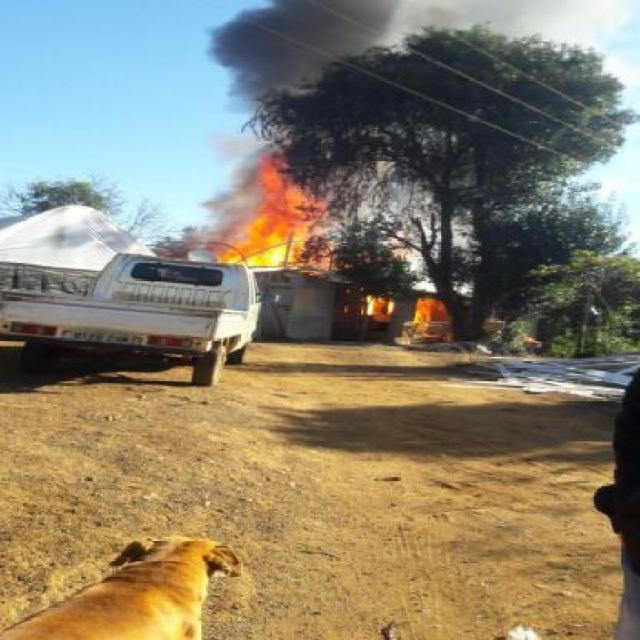Fire: (230, 148, 332, 232), (218, 242, 299, 268), (354, 289, 394, 320), (411, 302, 434, 332)
Smoke: (215, 15, 373, 63), (283, 0, 408, 57), (222, 65, 310, 98)
